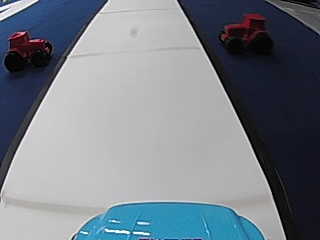tractor: (216, 11, 272, 55), (2, 28, 52, 71)
